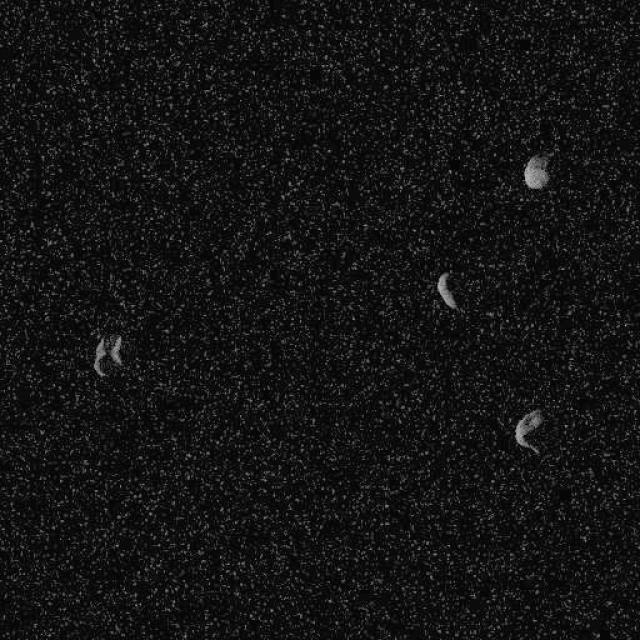D2: (91, 331, 122, 379), (514, 407, 544, 455), (522, 152, 550, 190), (435, 270, 457, 310)
